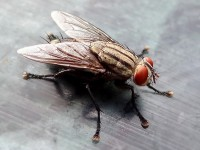green bottles flies: (12, 4, 173, 146)
